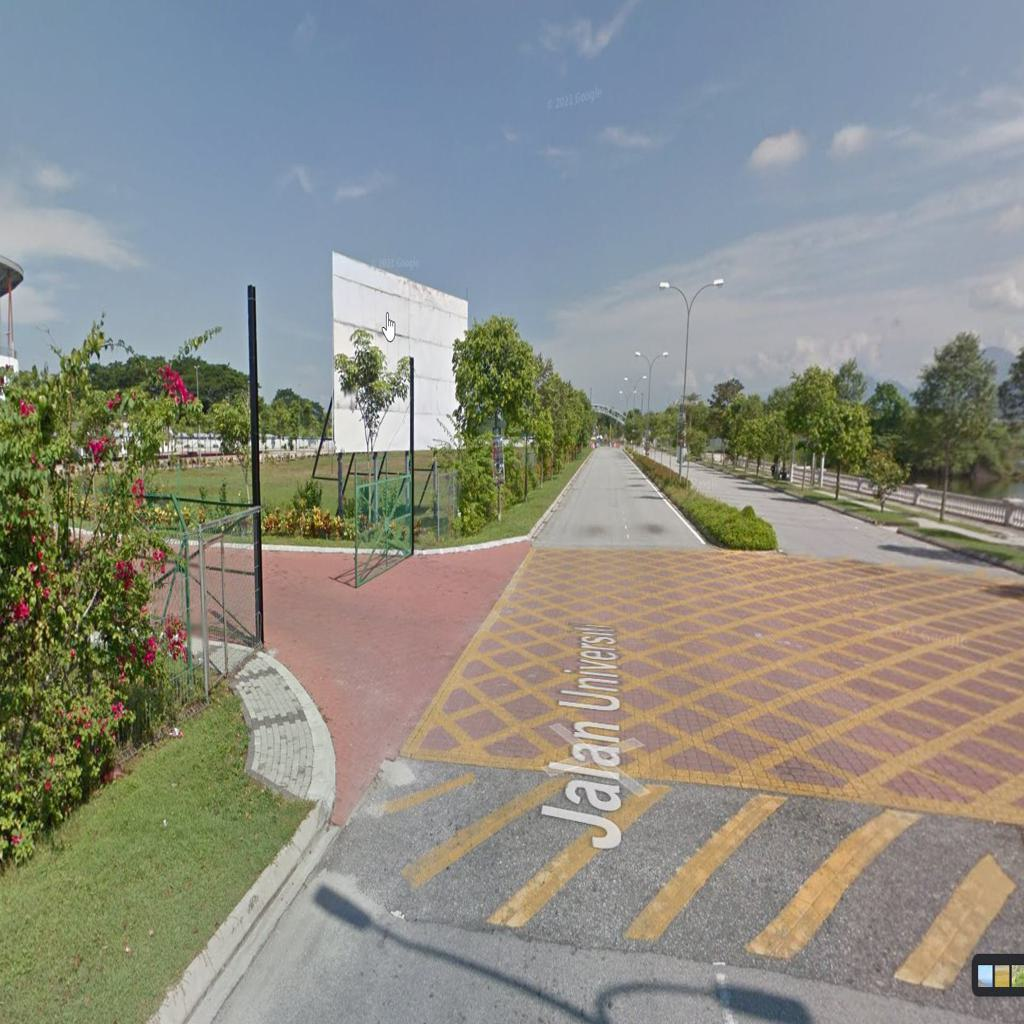Junction: (200, 502, 575, 820)
